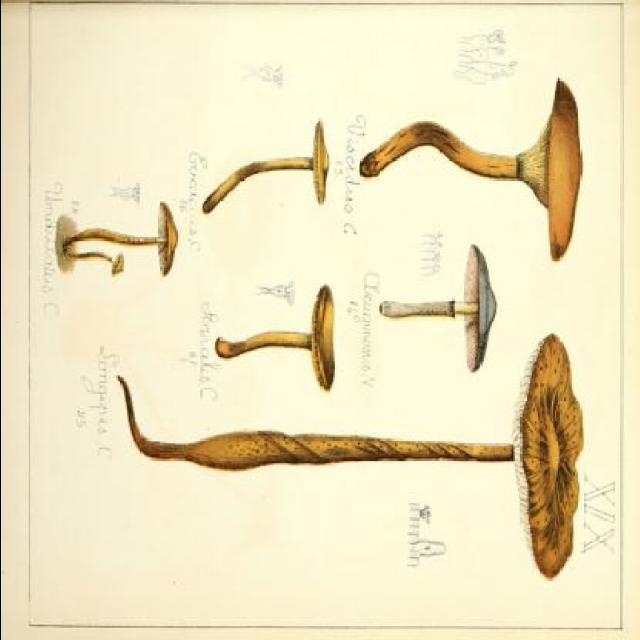Mushroom: (114, 330, 583, 582), (371, 72, 591, 274), (377, 243, 495, 374), (214, 282, 336, 389), (201, 115, 330, 213), (65, 202, 177, 274), (62, 247, 124, 275)
